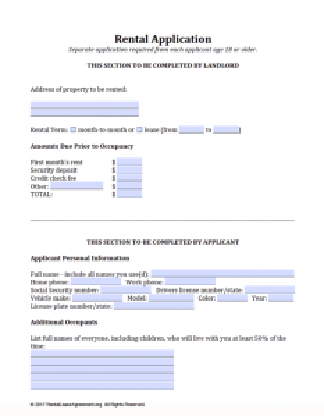checkbox: (70, 124, 78, 134), (136, 125, 143, 134)
textline: (149, 267, 296, 280), (25, 381, 175, 392), (29, 349, 174, 360), (28, 367, 175, 377), (28, 373, 175, 383), (29, 97, 141, 109), (29, 358, 174, 367), (28, 109, 143, 120), (115, 299, 196, 312), (50, 179, 103, 192), (243, 282, 295, 295), (147, 291, 193, 303), (72, 292, 122, 303), (70, 277, 122, 287), (164, 277, 214, 287), (100, 285, 152, 294), (115, 153, 145, 167), (213, 122, 239, 136), (178, 122, 205, 135), (216, 292, 249, 302), (114, 189, 145, 199), (114, 182, 143, 192), (267, 294, 296, 303), (114, 167, 146, 175), (115, 175, 143, 184)
